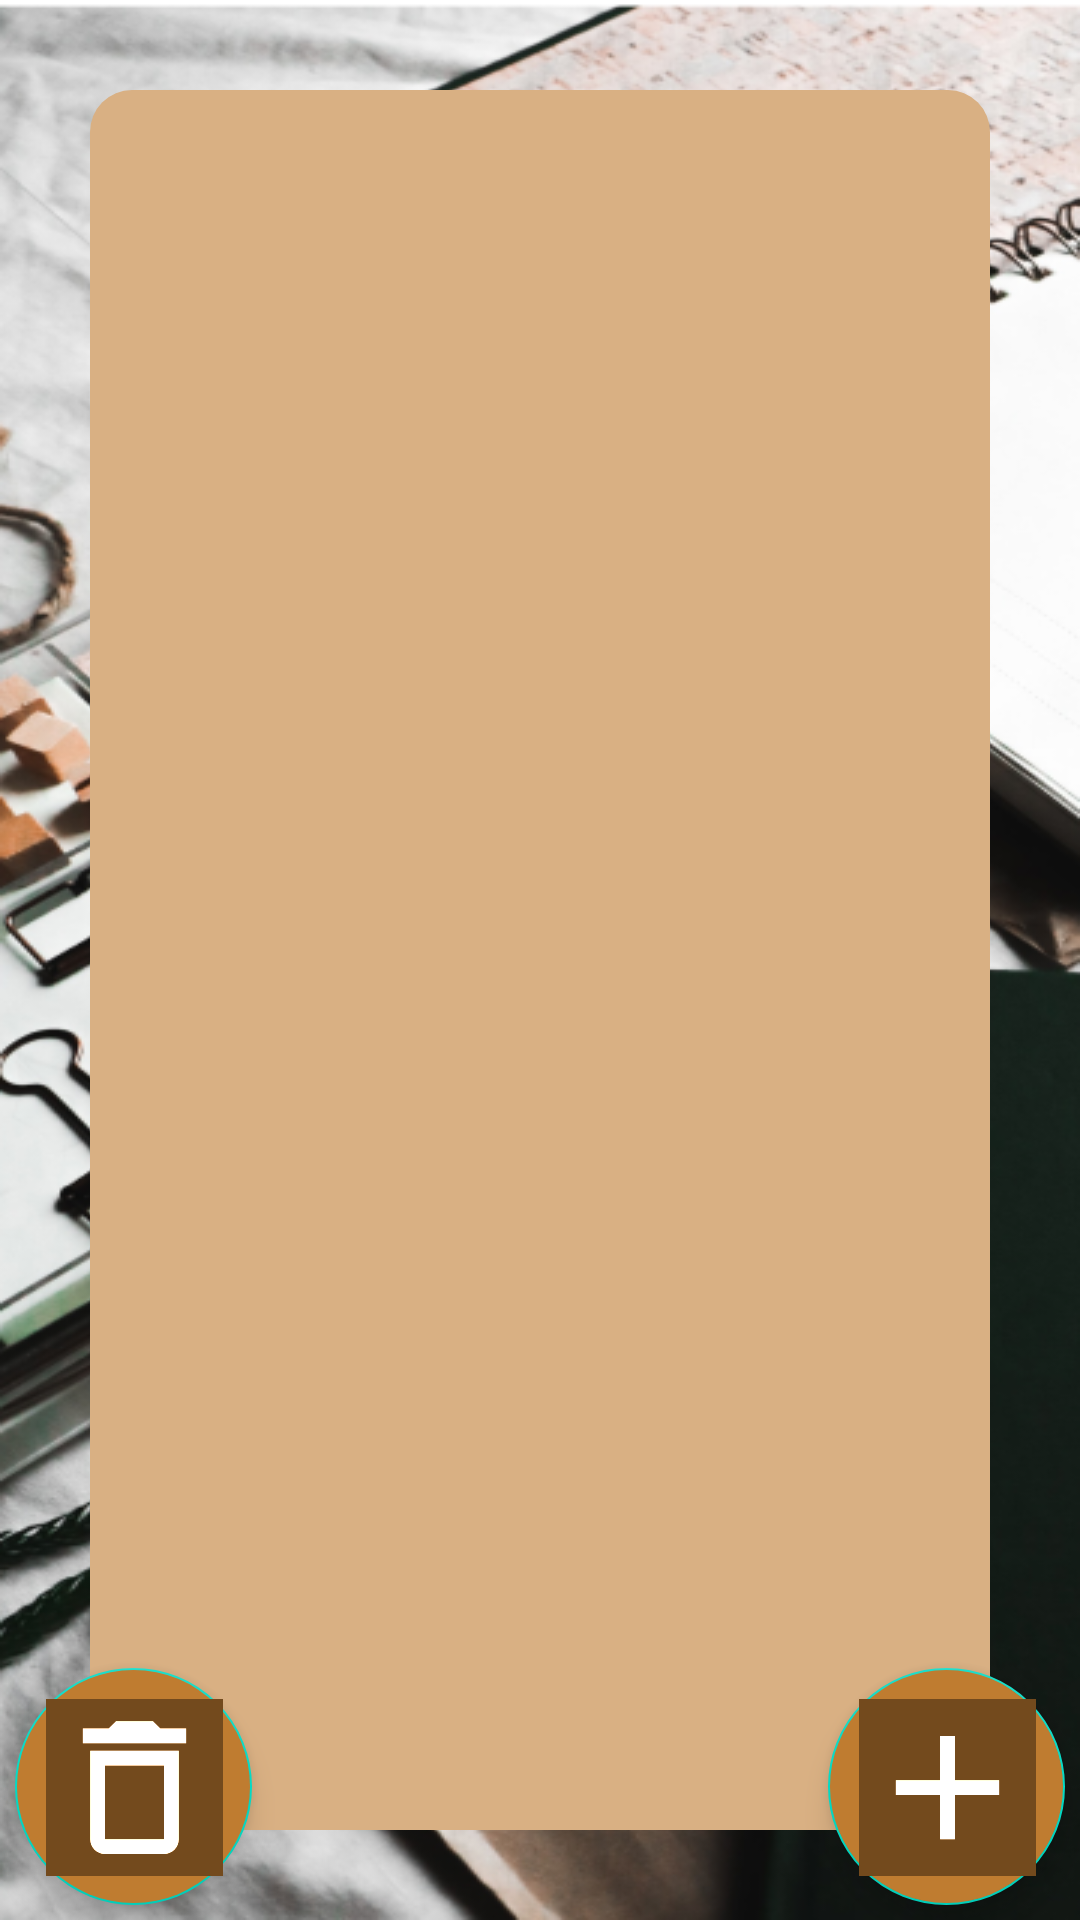

Where to tap for icons on this 1080 × 1920 app screen, as (x=x, y=y):
add: (x=946, y=1786)
delete: (x=133, y=1786)
